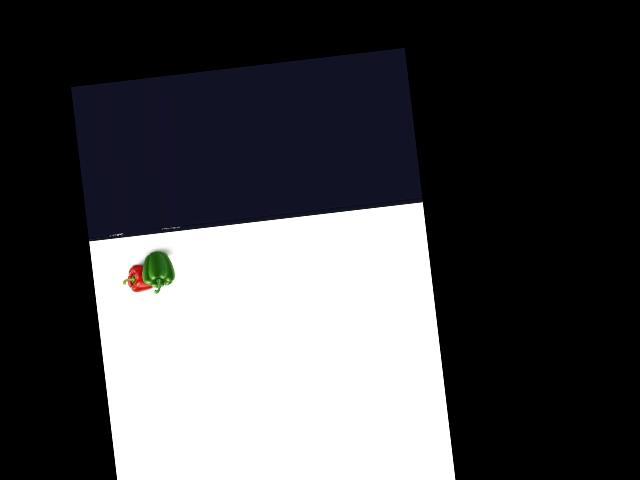bell_pepper: (121, 264, 154, 297)
